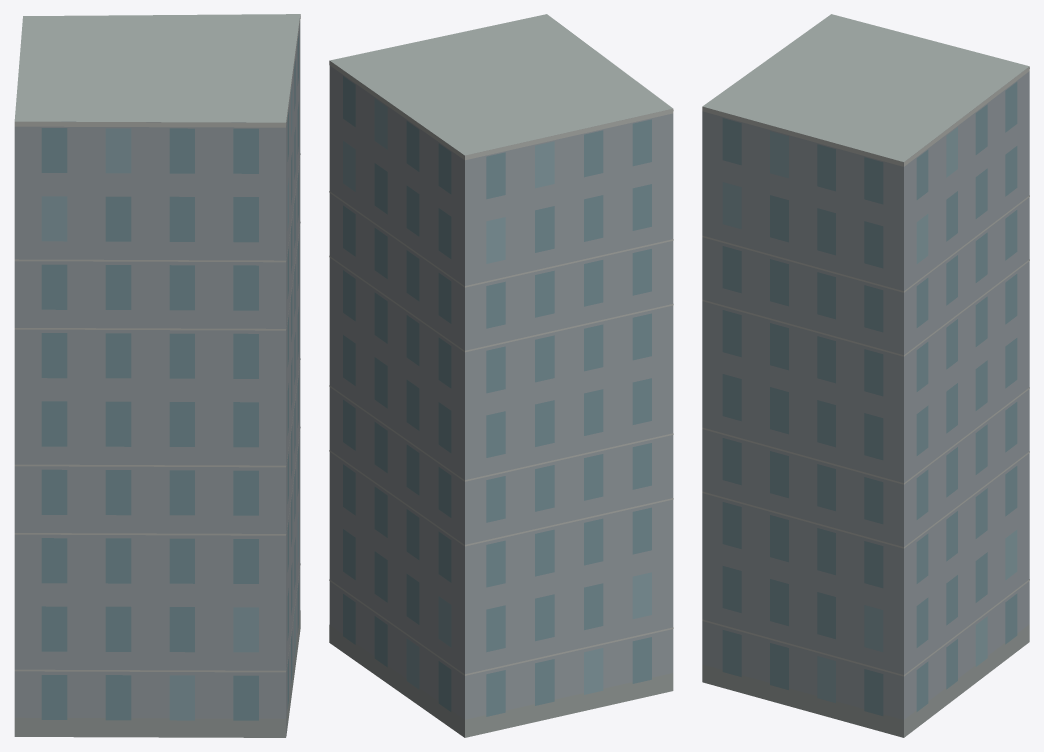
The model's file is survey-upis-32650278.glb.
3 renders of one model, left to right at view 1: azimuth 30°, elevation 25°; view 2: azimuth 150°, elevation 25°; view 3: azimuth 270°, elevation 25°, orthographic. The views are drawn at different scales.
Visible parts, largest first — view 1: survey-upis-32650278.tmp; view 2: survey-upis-32650278.tmp; view 3: survey-upis-32650278.tmp.
Part boxes in pixels (x1=…): survey-upis-32650278.tmp: x1=14, y1=14, x2=300, y2=737; survey-upis-32650278.tmp: x1=329, y1=14, x2=673, y2=737; survey-upis-32650278.tmp: x1=702, y1=14, x2=1029, y2=737.
Bounding box in the file's own units: 16.36 × 29.6 × 15.28.
